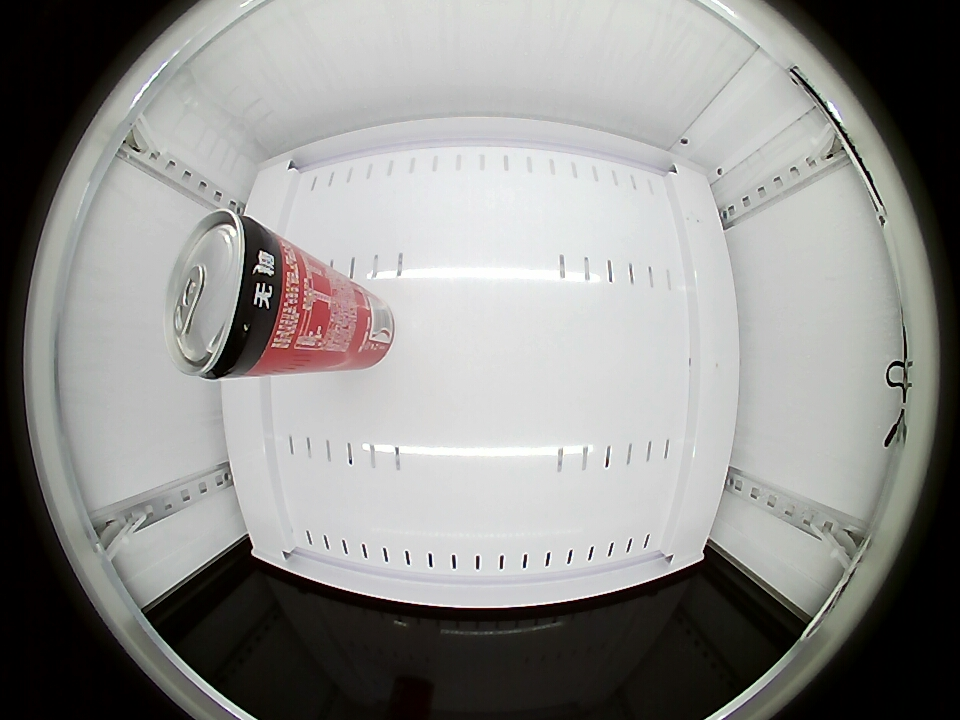lingdukele: (166, 211, 293, 380)
